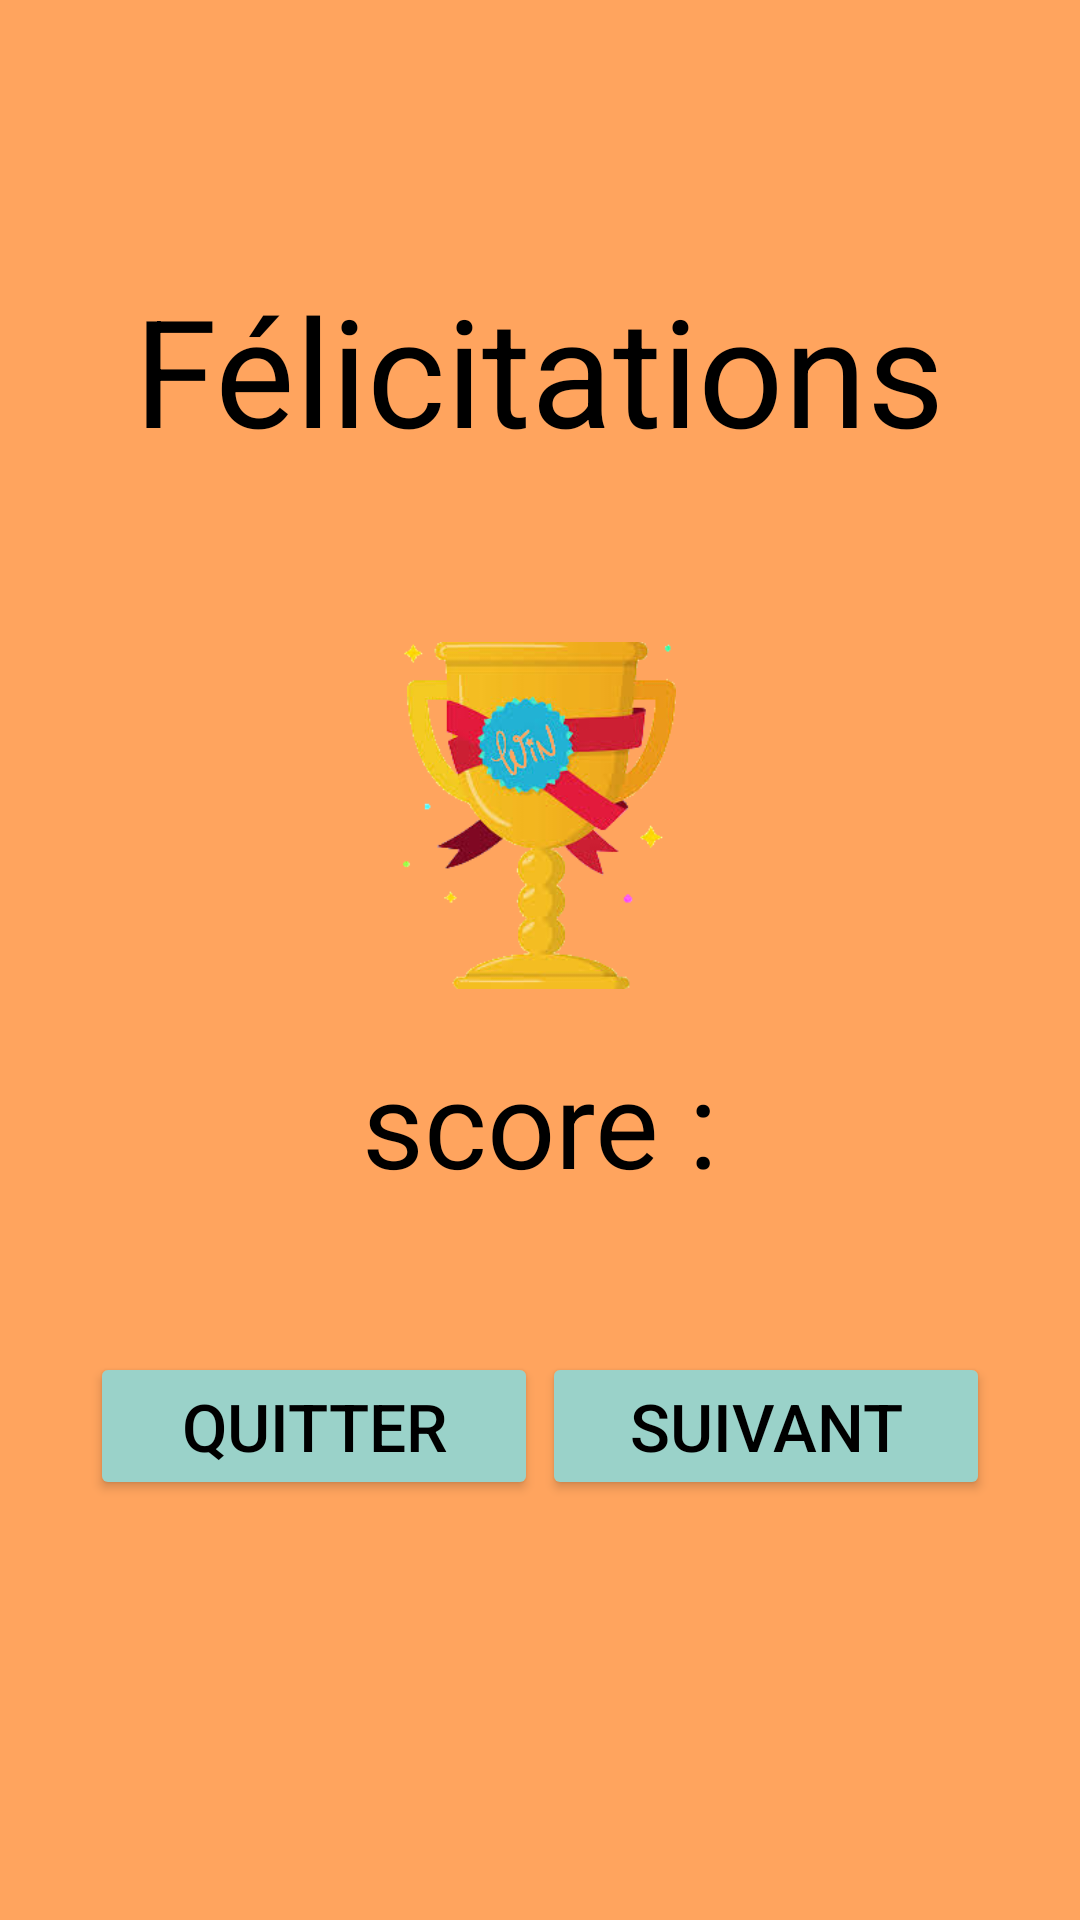

Icons on this 1080×1920 Android screen, each with its box as (x1, y1, x2, y2):
coupe: (403, 642, 676, 989)
